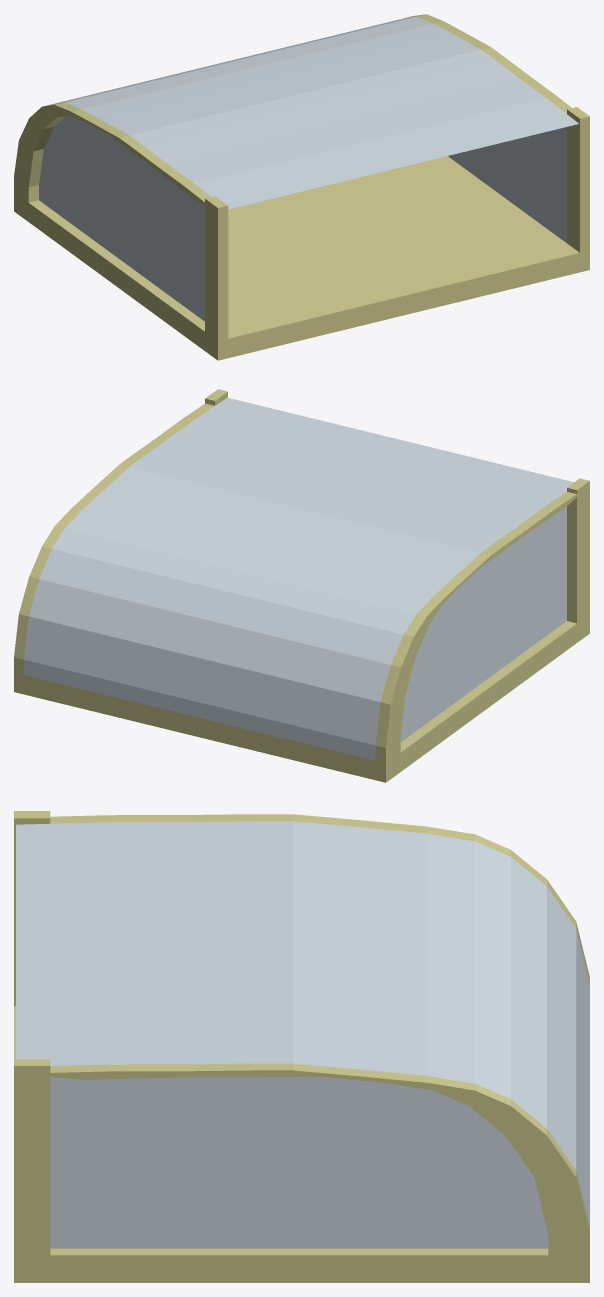
The model's file is Donut Case v01.fbx.
The picture shows the model from 3 angles, top to bottom: view 1: azimuth 30°, elevation 25°; view 2: azimuth 150°, elevation 25°; view 3: azimuth 270°, elevation 25°; orthographic projection. The views are drawn at different scales.
Visible parts, largest first — view 1: Cube; view 2: Cube; view 3: Cube.
Boxes of the visible parts, x1,y1,x2,y2 form: Cube: (14, 14, 589, 360); Cube: (14, 389, 589, 782); Cube: (14, 811, 589, 1282).
Bounding box in the file's own units: 80 × 31.57 × 76.
